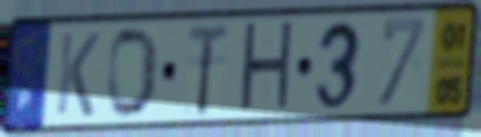3: (311, 16, 371, 115)
7: (378, 15, 428, 113)
H: (235, 17, 296, 119)
K: (52, 29, 103, 120)
O: (105, 24, 162, 122)
T: (185, 21, 232, 120)
